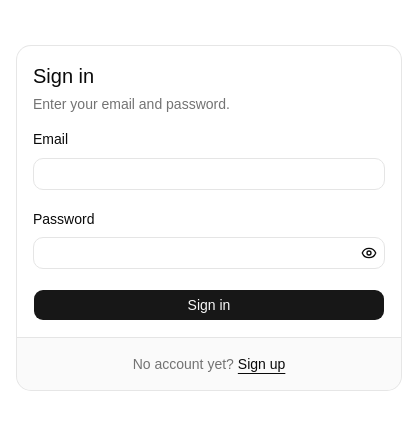
Test: /signin 429 → form alert "Too many attempts, please wait a minute"
Type "ann@example.com" into the field labelled "Email" at point(209, 174), box [33, 158, 385, 190]
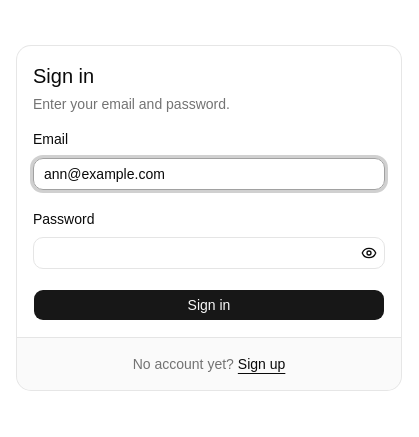
Type "short" into the password field labelled "Password" at point(209, 253), box [33, 237, 385, 269]
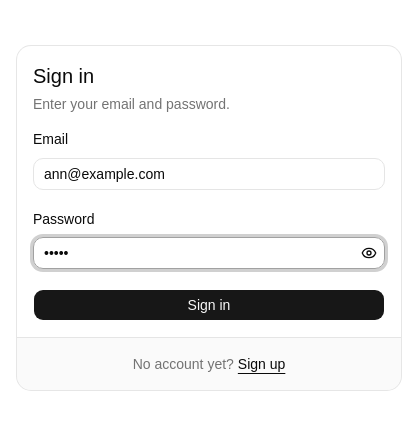
Click the button "Sign in" at point(209, 305), box [33, 289, 385, 321]
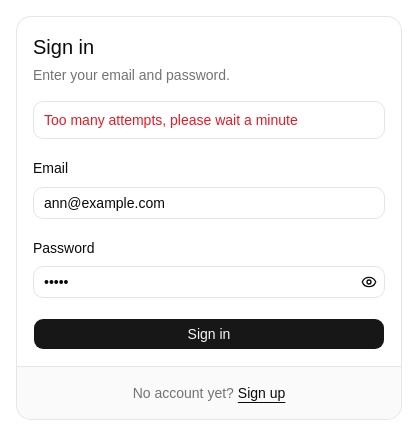
Result: the message reads "Too many attempts, please wait a minute" at [44, 112, 298, 128]
